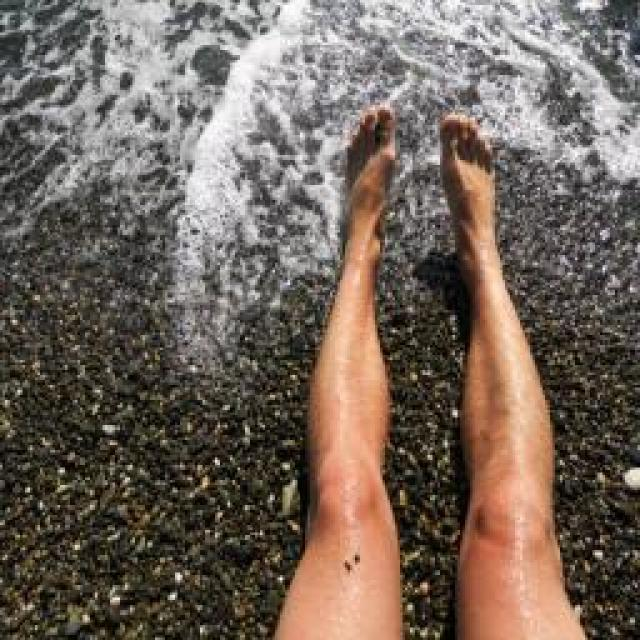No_Shoes: (427, 92, 523, 289), (320, 96, 406, 289)
